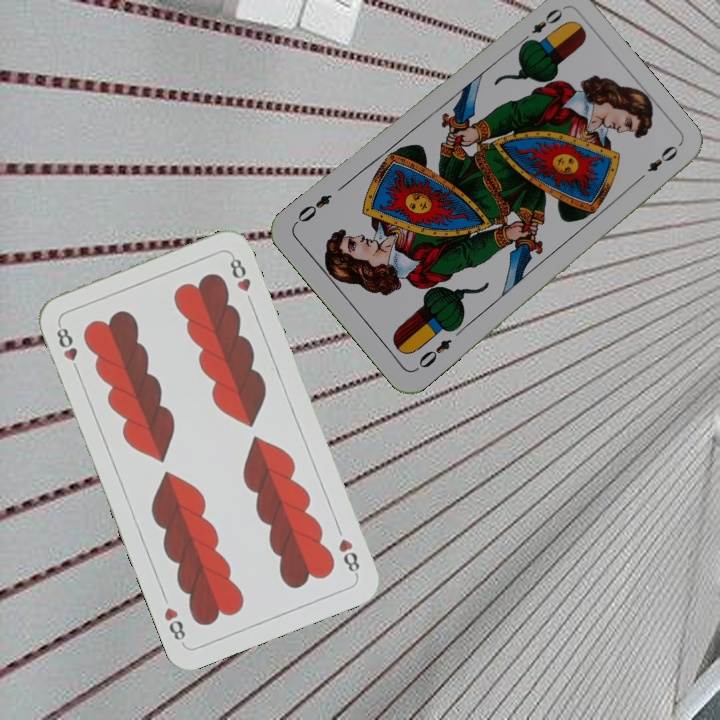EO: (516, 4, 566, 48), (411, 334, 455, 374)
H8: (52, 320, 83, 376), (334, 534, 363, 579)
